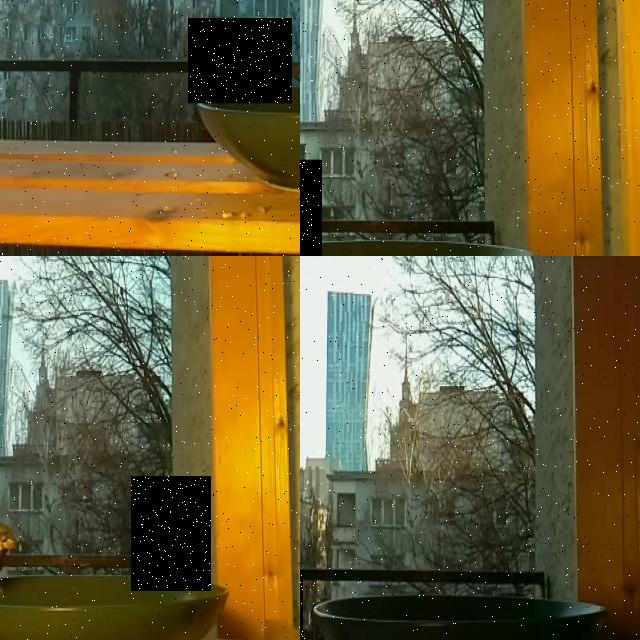Bogatka: (131, 476, 211, 591), (300, 159, 322, 256)
Modraszka: (188, 18, 292, 103)
